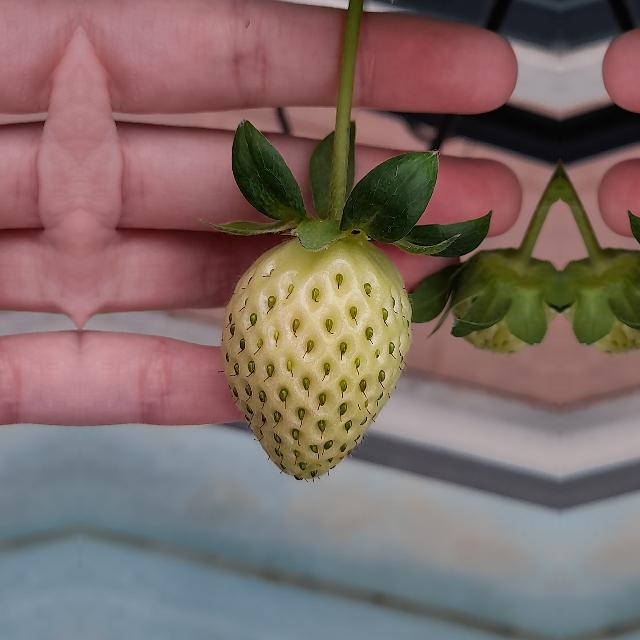Health_25: (220, 235, 412, 479)
